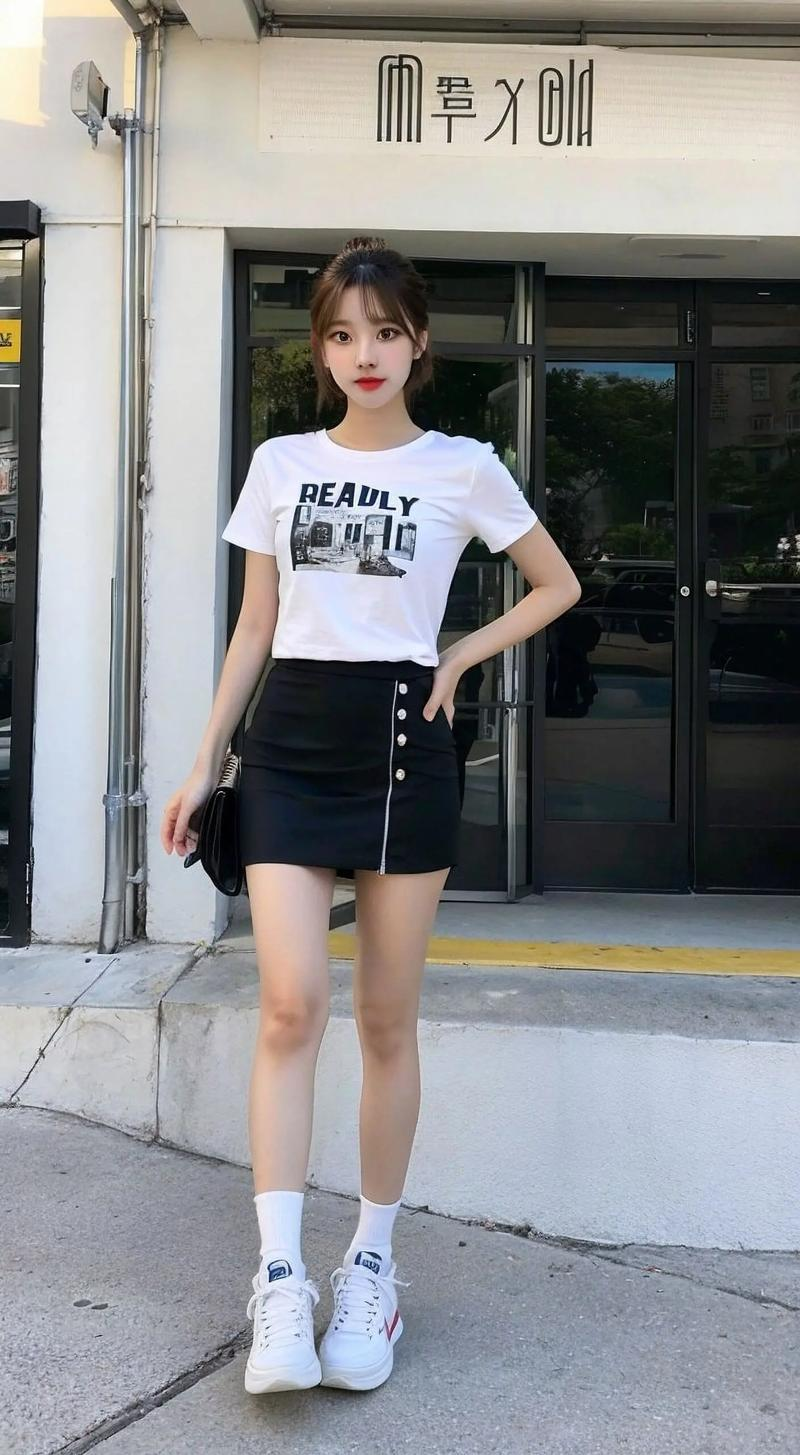up: (149, 226, 582, 1405)
